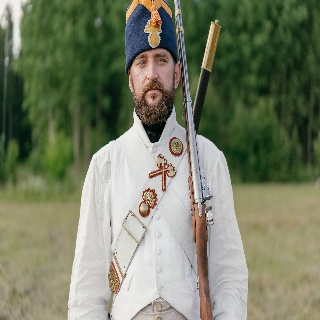rifle: (171, 1, 215, 320)
